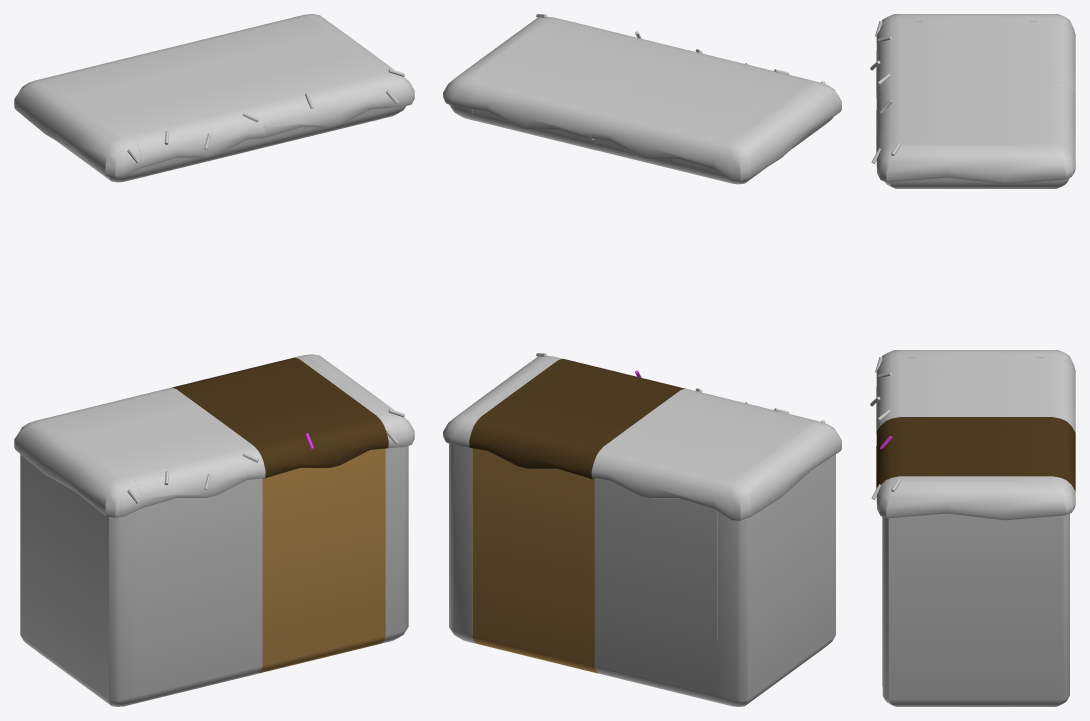
File: right_big_term.fbx
3 renders of one model, left to right at view 1: azimuth 30°, elevation 25°; view 2: azimuth 150°, elevation 25°; view 3: azimuth 270°, elevation 25°, orthographic.
Parts seen in each view (by area): view 1: candy.051, chocolate.032, candy.059, Cube.034, Cube.035, candy.060, candy.057, candy.058; view 2: candy.051, chocolate.032, candy.059, Cube.034, Cube.035, candy.060, candy.057, candy.058; view 3: candy.060, chocolate.032, candy.051, Cube.034, Cube.035, candy.058, candy.057, candy.059.
Boxes of the visible parts, box(x1,y1,x2,y2) form: candy.051: box(49, 387, 265, 703); chocolate.032: box(171, 357, 388, 673); candy.059: box(14, 417, 142, 706); Cube.034: box(48, 47, 265, 178); Cube.035: box(171, 17, 388, 148); candy.060: box(293, 354, 414, 643); candy.057: box(14, 77, 142, 182); candy.058: box(293, 14, 414, 118); candy.051: box(591, 388, 808, 703); chocolate.032: box(469, 359, 685, 673); candy.059: box(714, 419, 841, 706); Cube.034: box(591, 49, 808, 180); Cube.035: box(469, 20, 684, 150); candy.060: box(443, 353, 562, 643); candy.057: box(714, 79, 841, 184); candy.058: box(443, 14, 563, 120); candy.060: box(871, 476, 1075, 706); chocolate.032: box(876, 417, 1075, 686); candy.051: box(870, 357, 1075, 433); Cube.034: box(870, 21, 1075, 97); Cube.035: box(876, 81, 1075, 155); candy.058: box(871, 140, 1075, 188); candy.057: box(875, 14, 1075, 37); candy.059: box(875, 350, 1075, 372).
Size of the model in its own units: 518 by 912 by 301.
